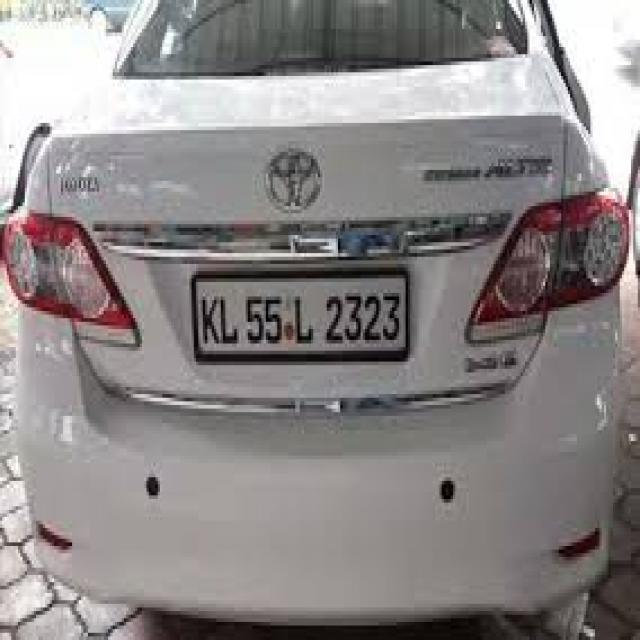Number-Plate: (194, 274, 406, 357)
